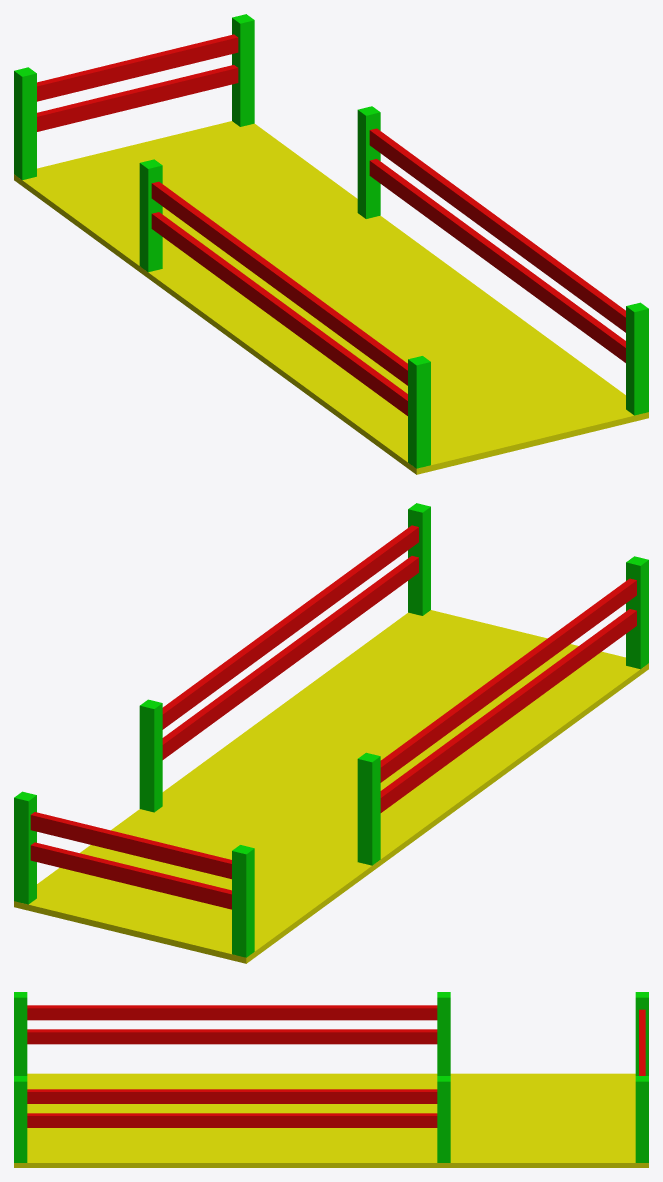
File: WalkwayD_SM (6).fbx
3 views of the same model, one above another, from view 1: azimuth 30°, elevation 25°; view 2: azimuth 150°, elevation 25°; view 3: azimuth 270°, elevation 25° (orthographic). The views are drawn at different scales.
Visible parts, largest first — view 1: polySurface37; view 2: polySurface37; view 3: polySurface37.
Boxes of the visible parts, left/top/right/bottom form: polySurface37: left=14, top=14, right=648, bottom=474; polySurface37: left=14, top=503, right=648, bottom=963; polySurface37: left=14, top=992, right=648, bottom=1167.
Size of the model in its own units: 8 by 3.6 by 24.
